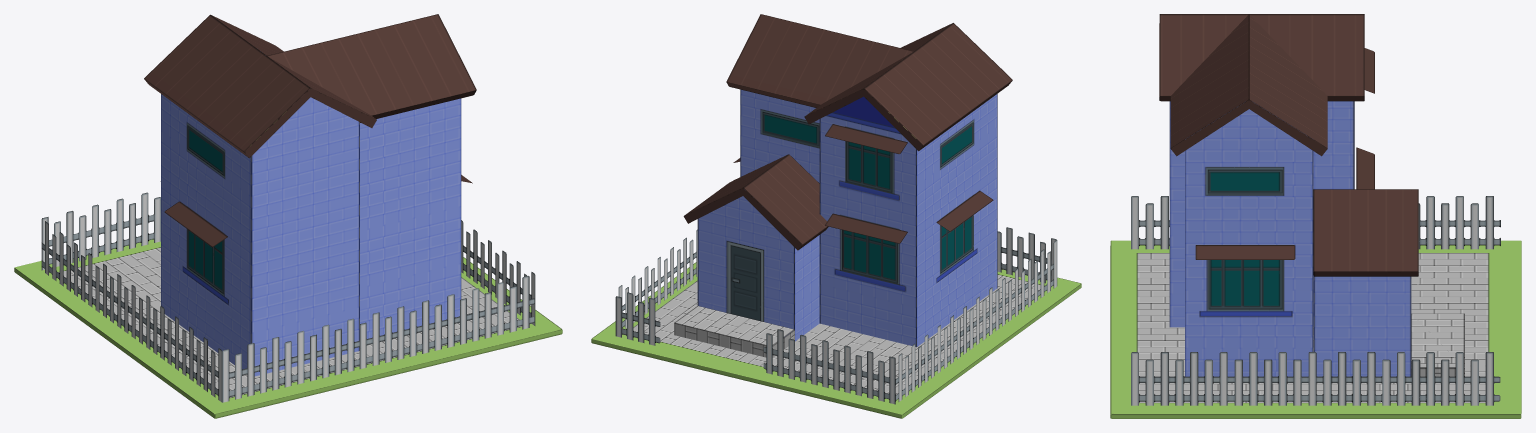
The model's file is gothichouse.fbx.
3 renders of one model, left to right at view 1: azimuth 30°, elevation 25°; view 2: azimuth 150°, elevation 25°; view 3: azimuth 270°, elevation 25°, orthographic. The views are drawn at different scales.
Parts seen in each view (by area): view 1: group, plane_5, plane_2, plane, plane_3, plane_1, plane_9; view 2: group, plane_5, plane, plane_3, steps, plane_1, plane_2, plane_4, plane_7, plane_6, plane_9; view 3: group, plane_5, plane_1, plane, steps, plane_8, plane_6, plane_7.
Boxes of the visible parts, <box> form: group: <box>144,14,476,376</box>; plane_5: <box>14,239,562,418</box>; plane_2: <box>222,276,534,402</box>; plane: <box>41,221,222,402</box>; plane_3: <box>41,192,160,270</box>; plane_1: <box>461,220,535,325</box>; plane_9: <box>164,201,227,247</box>; group: <box>683,14,1012,347</box>; plane_5: <box>591,262,1081,418</box>; plane: <box>895,240,1057,401</box>; plane_3: <box>763,329,895,404</box>; steps: <box>674,306,794,357</box>; plane_1: <box>618,229,697,328</box>; plane_2: <box>997,227,1056,283</box>; plane_4: <box>615,292,660,345</box>; plane_7: <box>825,124,907,153</box>; plane_6: <box>825,213,907,243</box>; plane_9: <box>936,190,993,231</box>; group: <box>1159,14,1418,376</box>; plane_5: <box>1110,240,1521,418</box>; plane_1: <box>1131,352,1500,405</box>; plane: <box>1131,196,1500,249</box>; steps: <box>1411,313,1464,376</box>; plane_8: <box>1195,245,1295,259</box>; plane_6: <box>1356,147,1374,189</box>; plane_7: <box>1364,48,1374,93</box>.
Bounding box in the file's own units: 1000 × 781 × 1000.
1 material, 1 textured.
